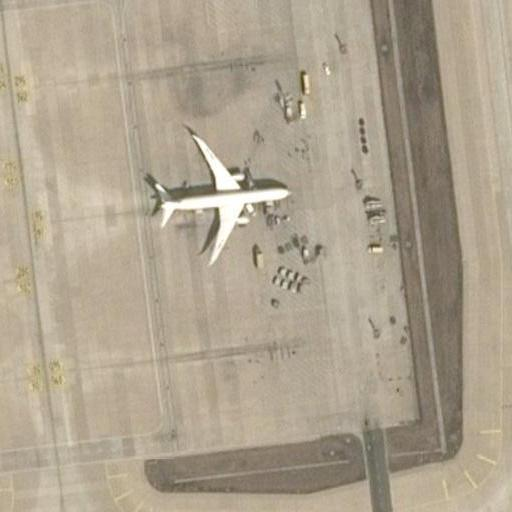Aircraft: (152, 109, 294, 257)
